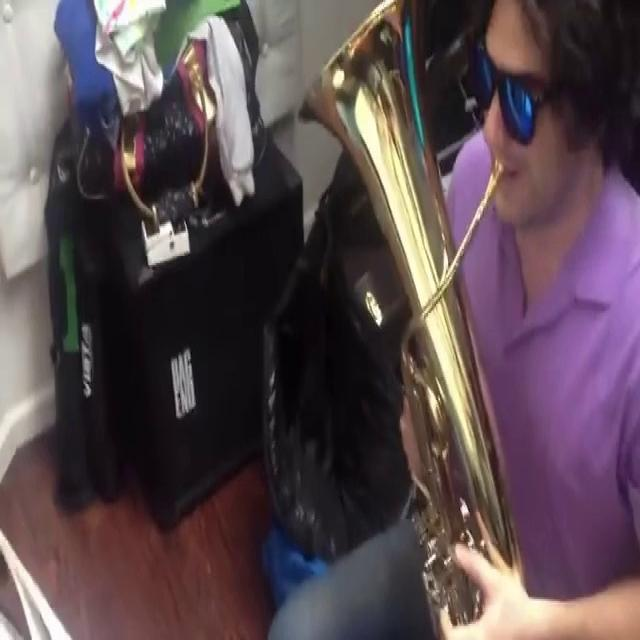Tuba: (288, 4, 551, 636)
